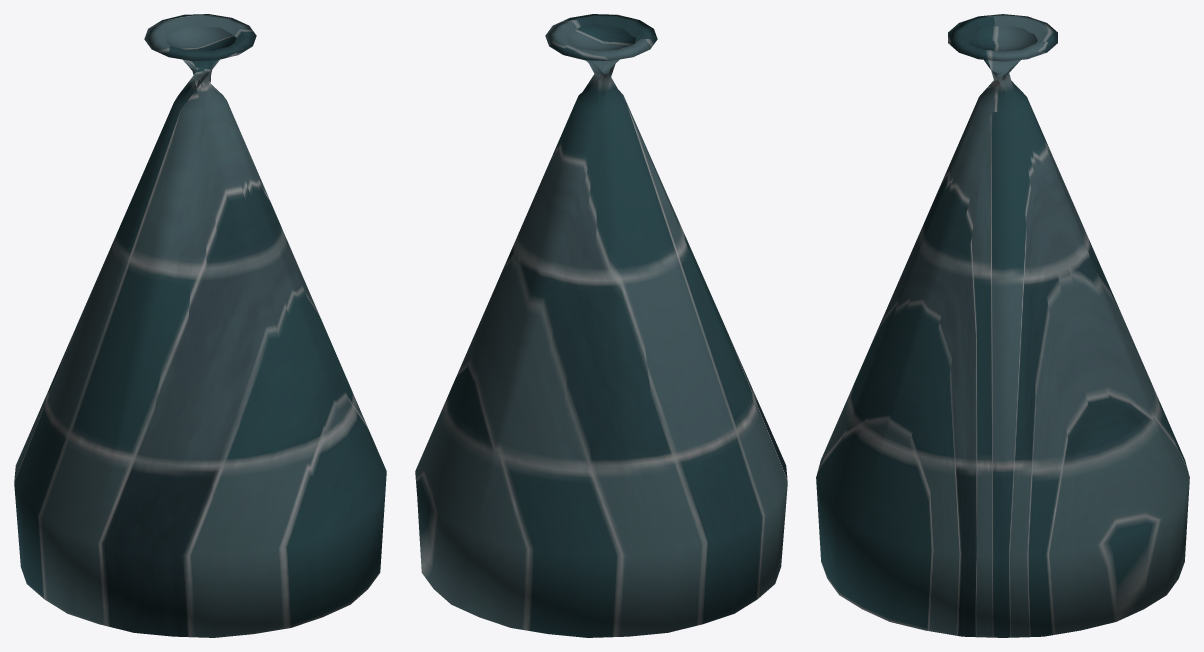
3 views of the same model, side by side, from view 1: azimuth 30°, elevation 25°; view 2: azimuth 150°, elevation 25°; view 3: azimuth 270°, elevation 25° (orthographic).
Visible parts, largest first — view 1: Cylinder_cell.010; view 2: Cylinder_cell.010; view 3: Cylinder_cell.010.
Boxes of the visible parts, x1,y1,x2,y2 form: Cylinder_cell.010: (14,14,386,637); Cylinder_cell.010: (415,14,787,637); Cylinder_cell.010: (816,14,1189,637).
Bounding box in the file's own units: 0.1305 × 0.208 × 0.1305.
Materials: 1 (1 with a texture image).
